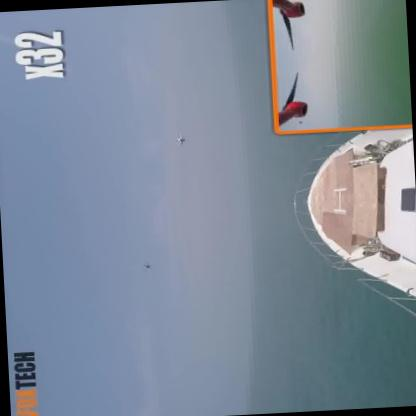drone: (172, 128, 190, 147)
